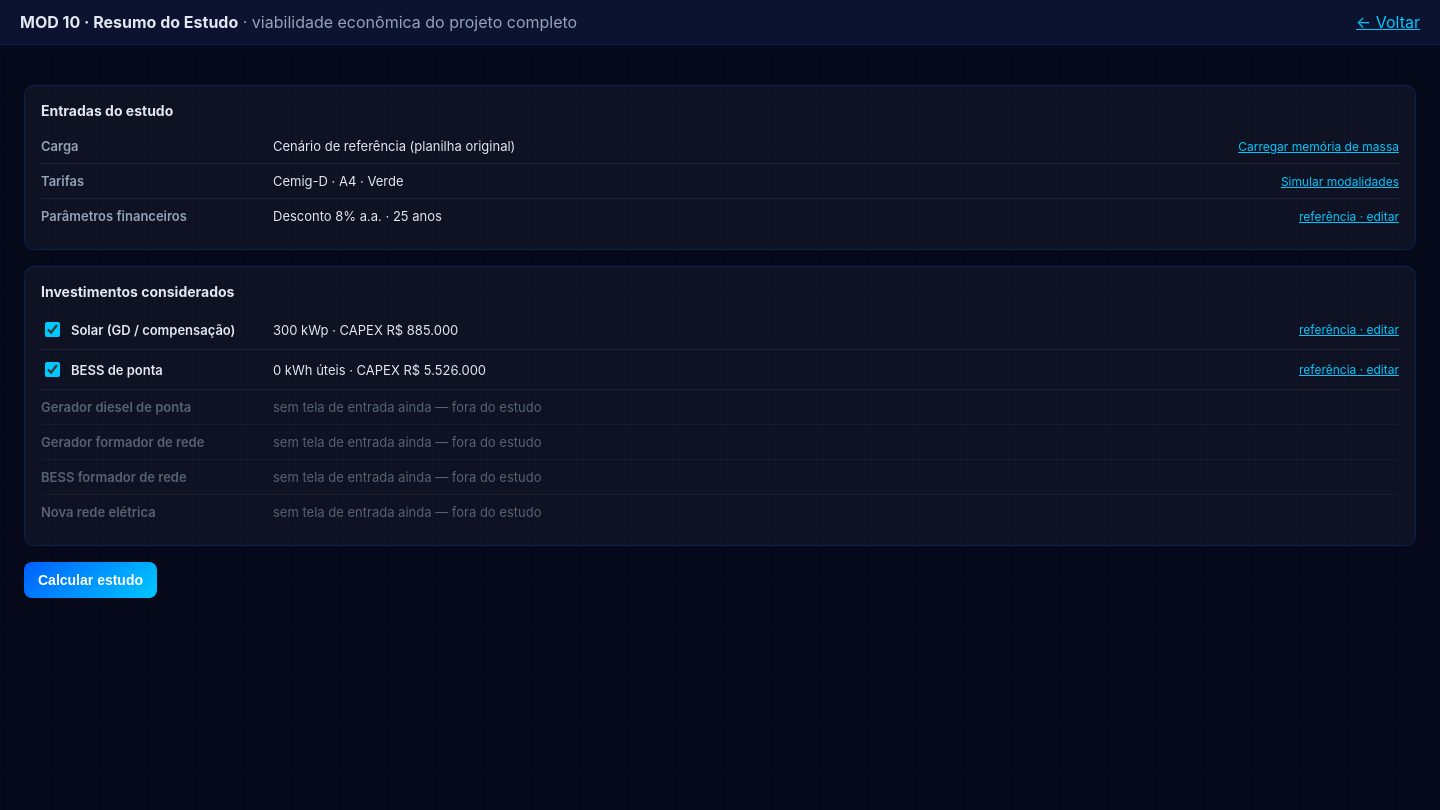
Scenario: SummaryPage › não envia o investimento desmarcado
Step 1. Click the checkbox labelled "BESS de ponta" → click(52, 370), box [45,362,60,377]
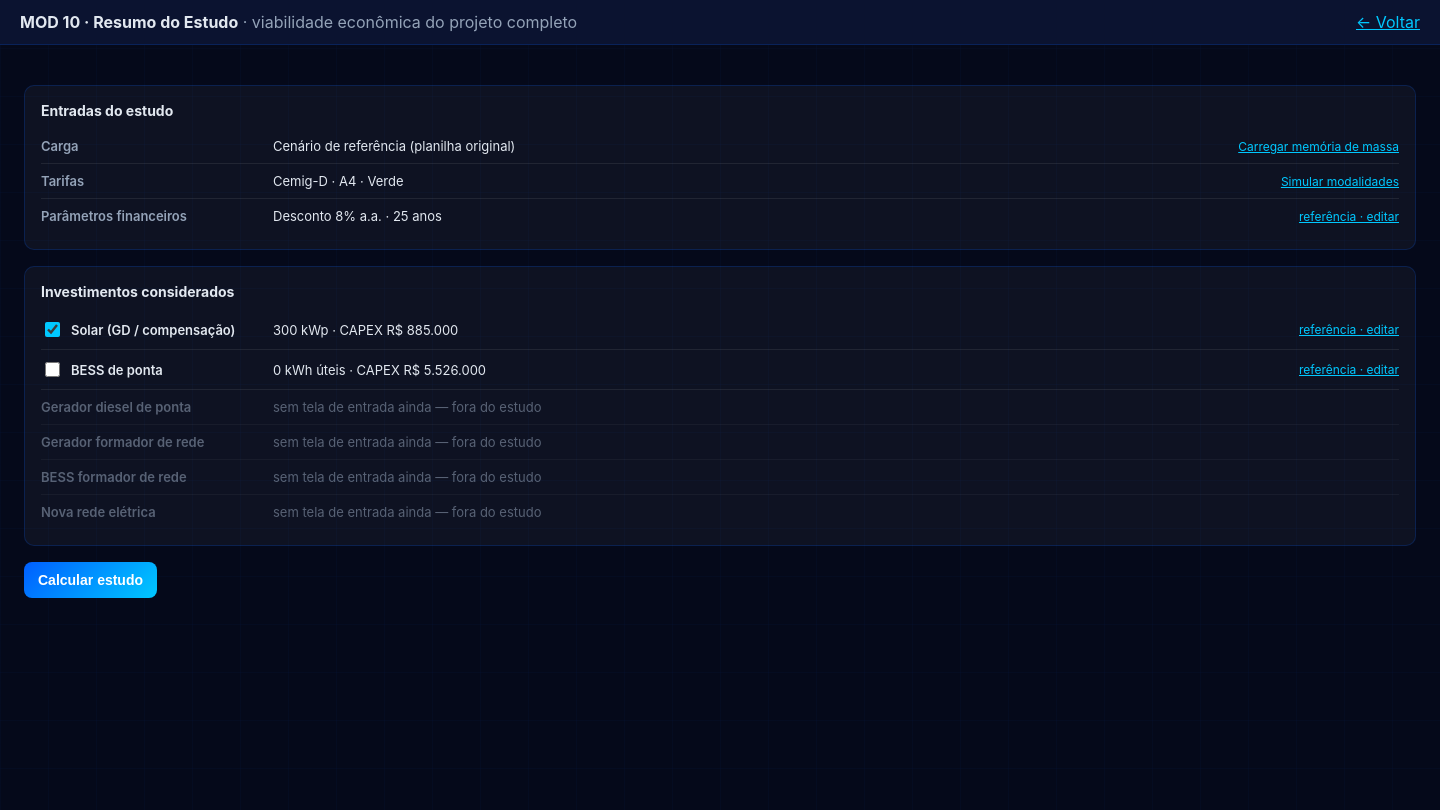
Step 2. Click the button "Calcular estudo" → click(90, 580), box [24,562,157,598]
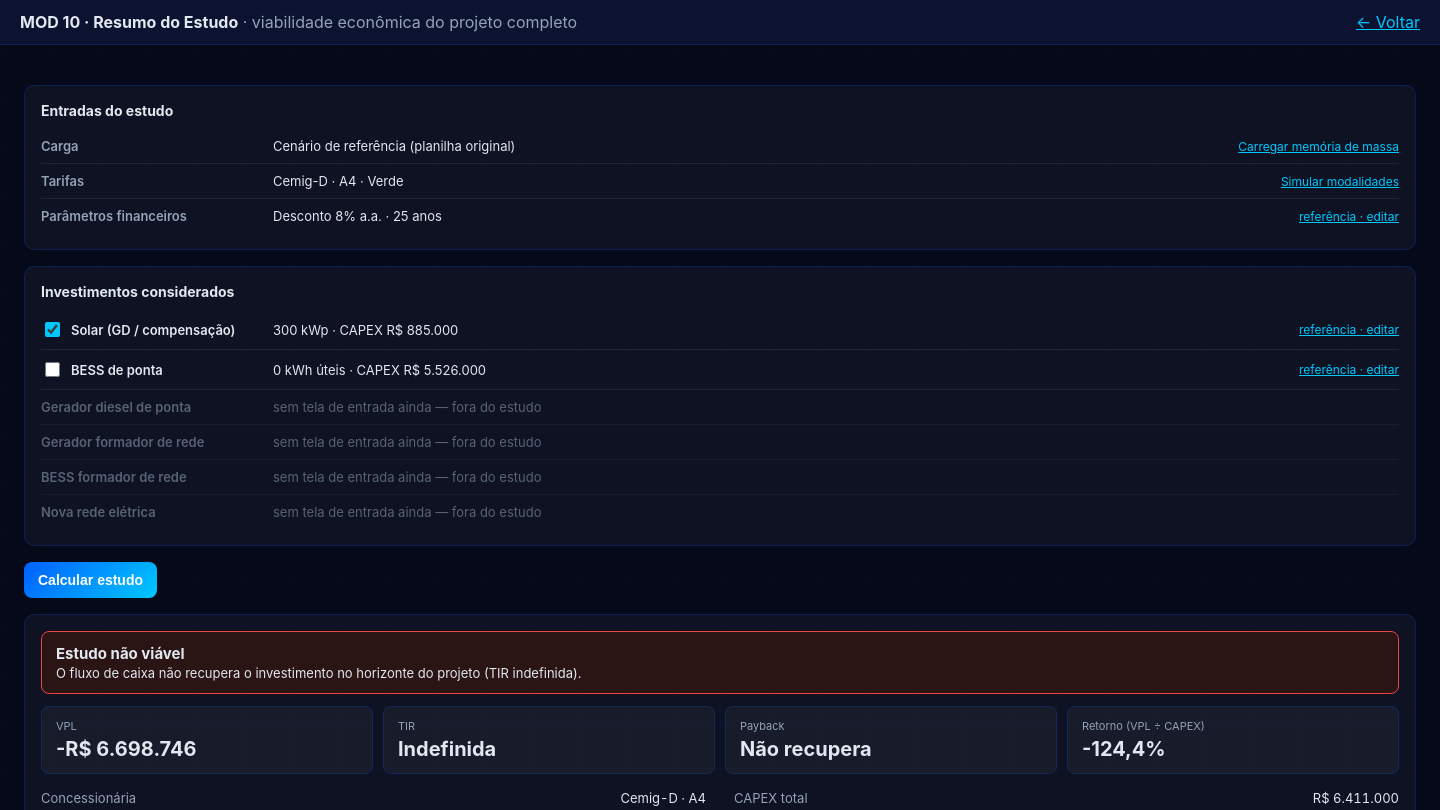
Expected: the text "Estudo não viável" is shown, [56,644,185,663]
